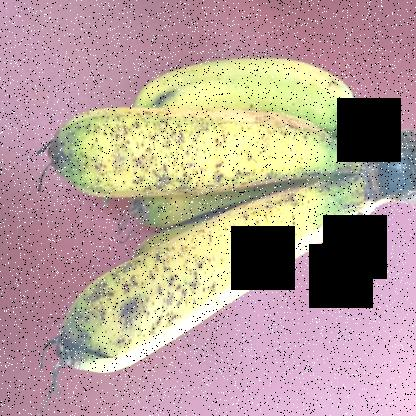ripe: (36, 186, 341, 390), (51, 95, 336, 192)
